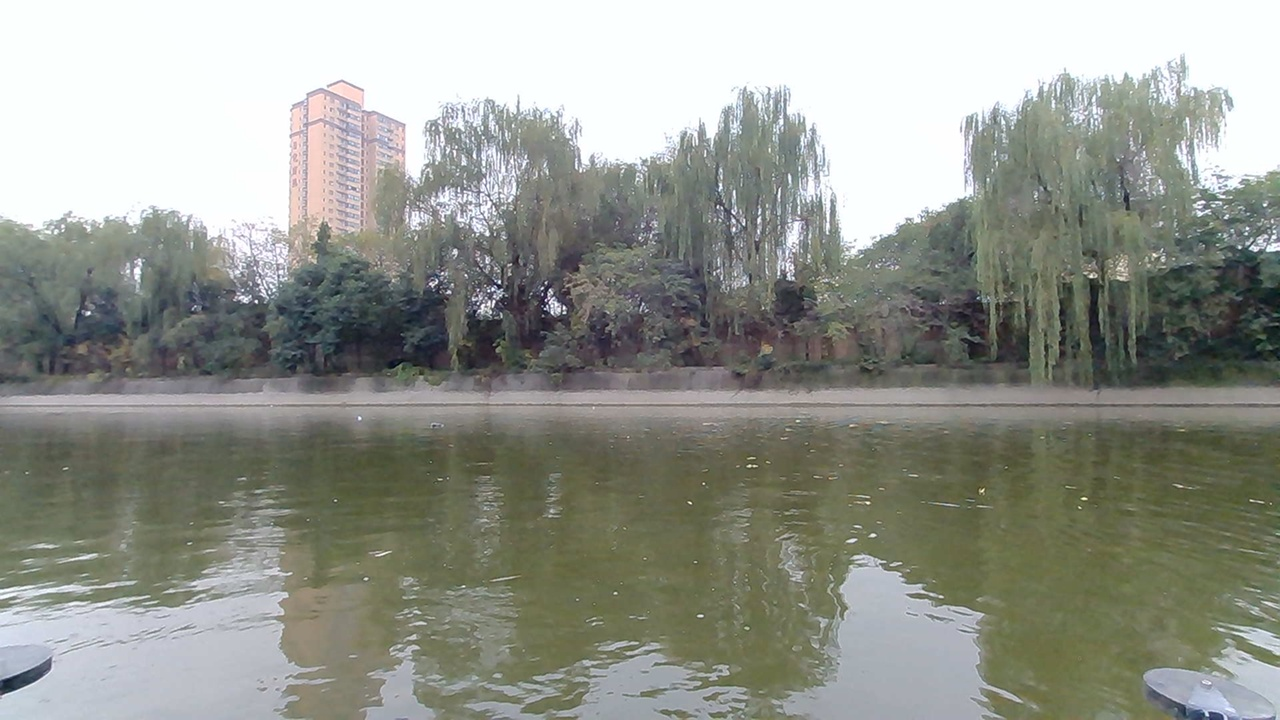bottle: (422, 419, 460, 439)
